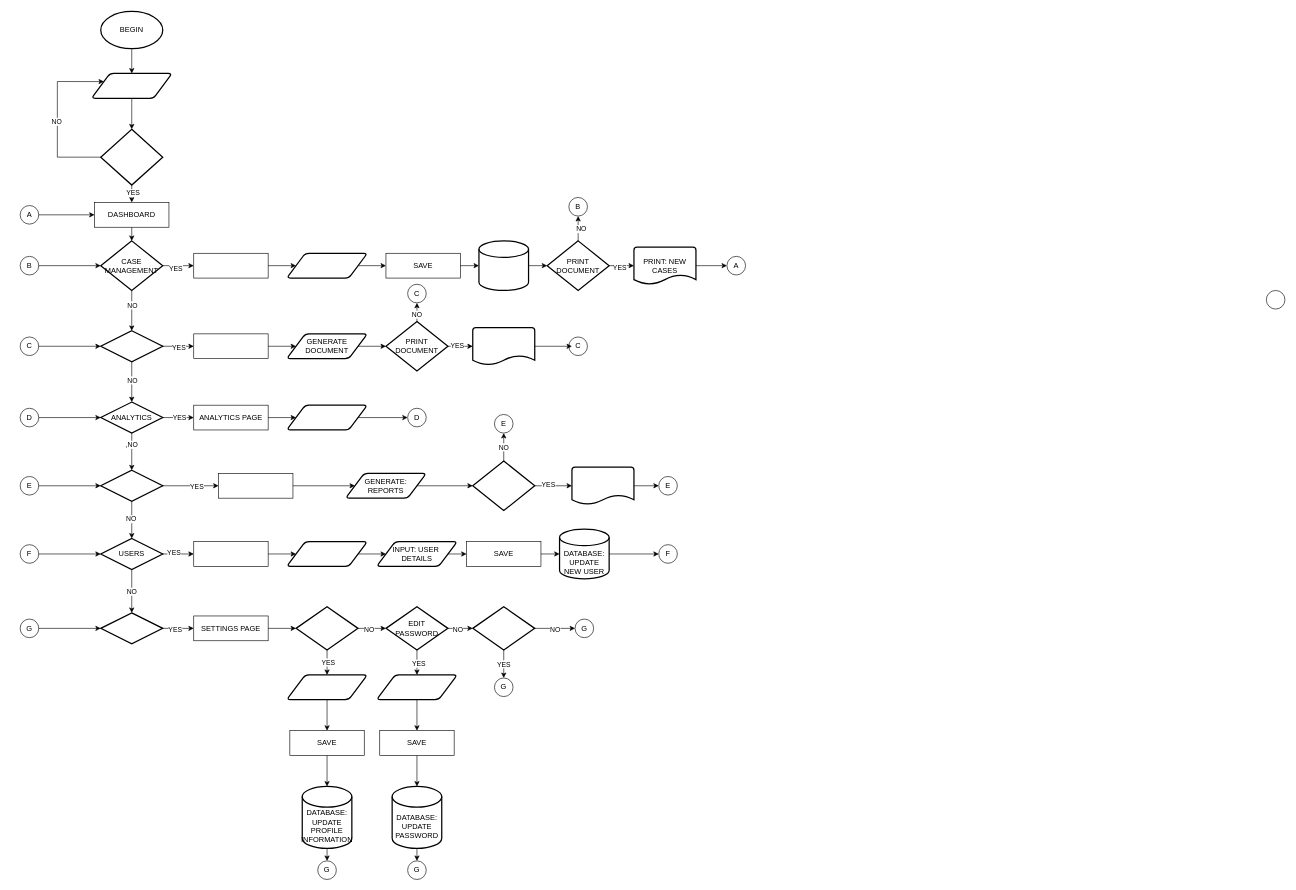
Some shapes in this 1296 by 890 pixel diagram are drawn without their labels. Each missing label, with the centre of its shape:
"ADD PROFILE: INFORMATION" goes at pixel 327 687.
"ADD USER" goes at pixel 327 554.
"CASE MANAGEMENTPAGE" goes at pixel 230 265.
"DATABASE: NEW CASE RECORDED" goes at pixel 503 265.
"DELETE ACCOUNT" goes at pixel 503 628.
"DOCUMENT" goes at pixel 131 346.
"DOCUMENT PAGE" goes at pixel 230 346.
"DOWNLOAD PDF" goes at pixel 503 485.
"DOWNLOAD:PDF DOCUMENTS" goes at pixel 602 485.
"EDIT PROFILE INFORMATION" goes at pixel 326 628.
"EDIT: PASSWORD" goes at pixel 417 687.
"INPUT CREDENTAILS" goes at pixel 131 86.
"INPUT NEW CASE" goes at pixel 327 265.
"PRINT: GENERATED DOCUMENTS" goes at pixel 503 346.
"REPORTS" goes at pixel 131 485.
"REPORTS PAGE" goes at pixel 255 485.
"SELECT: DATE RANGE" goes at pixel 327 417.
"SETTINGS" goes at pixel 131 628.
"USER MANAGEMENT PAGE" goes at pixel 230 553.
"VALID CREDENTIALS" goes at pixel 131 156.
